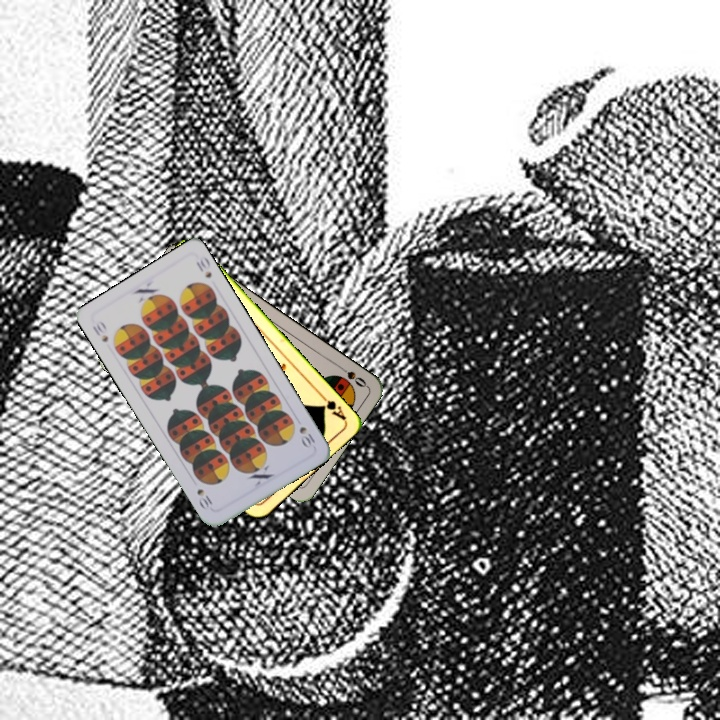GA: (315, 389, 348, 423)
S10: (295, 422, 318, 451), (88, 317, 111, 345)
SO: (334, 361, 369, 390)
